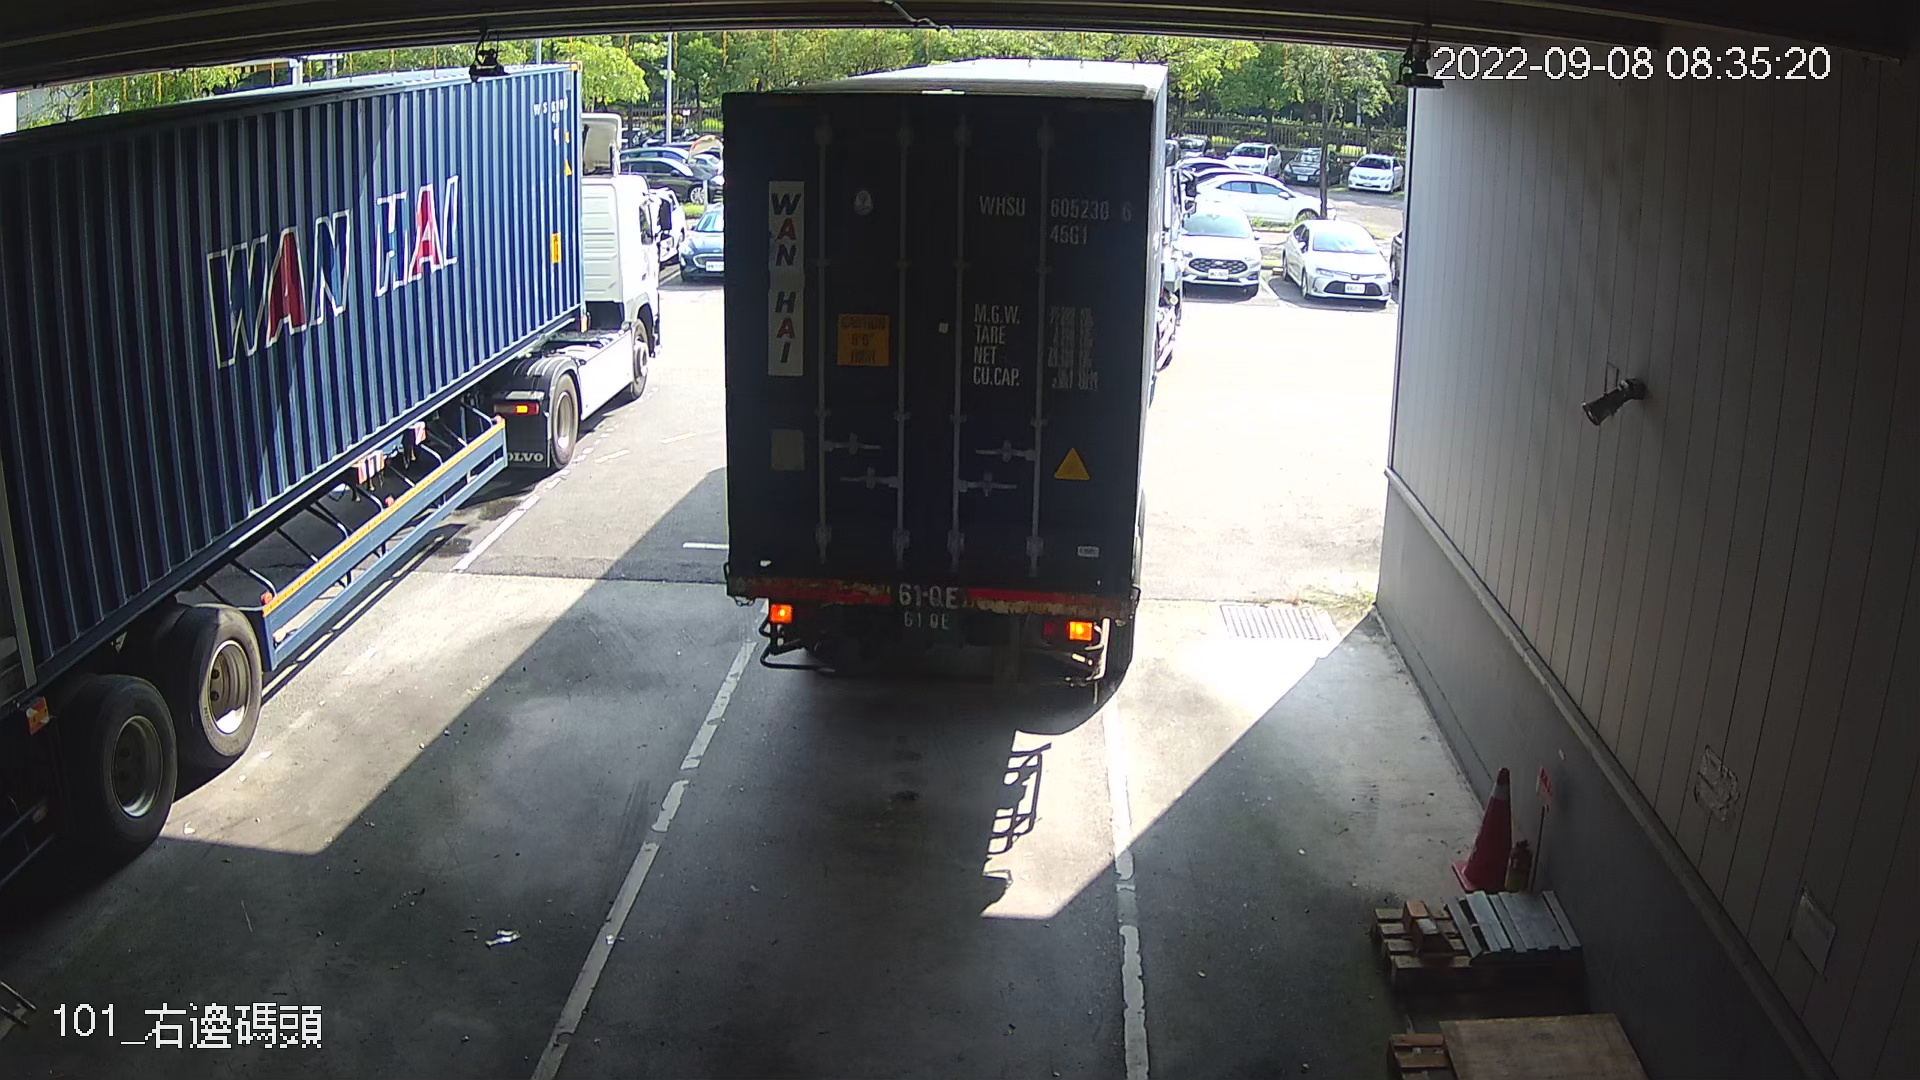container: (969, 179, 1138, 255)
